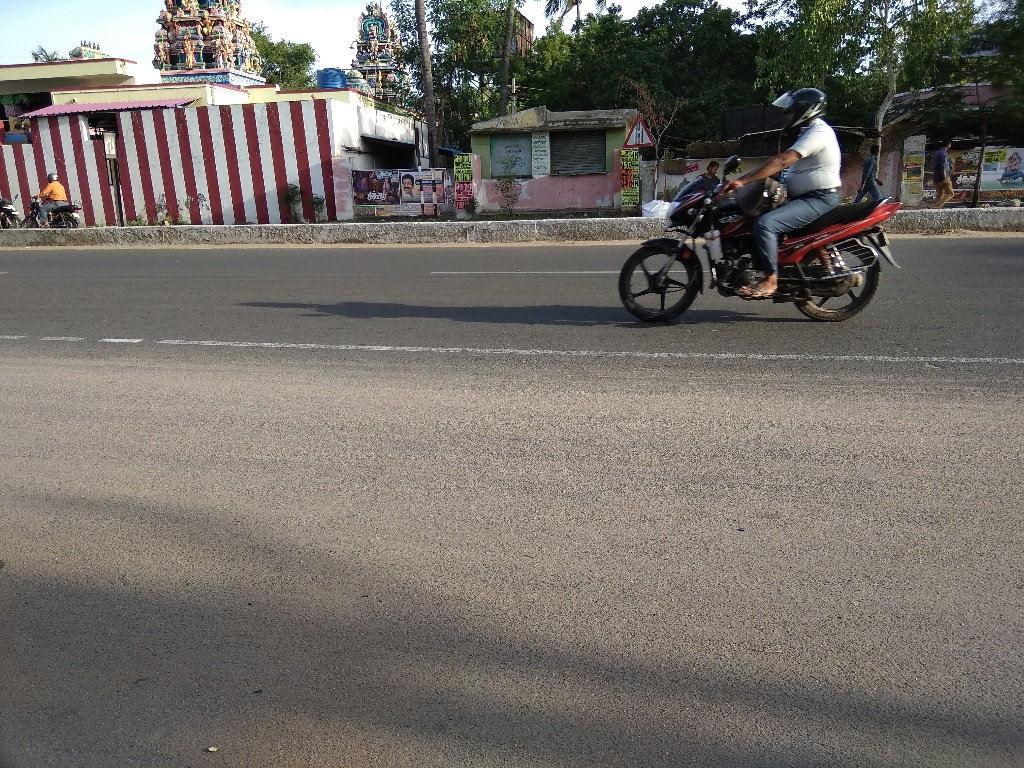biker: (599, 51, 926, 335), (29, 155, 90, 230)
helmet: (763, 76, 836, 145), (42, 166, 71, 189)
